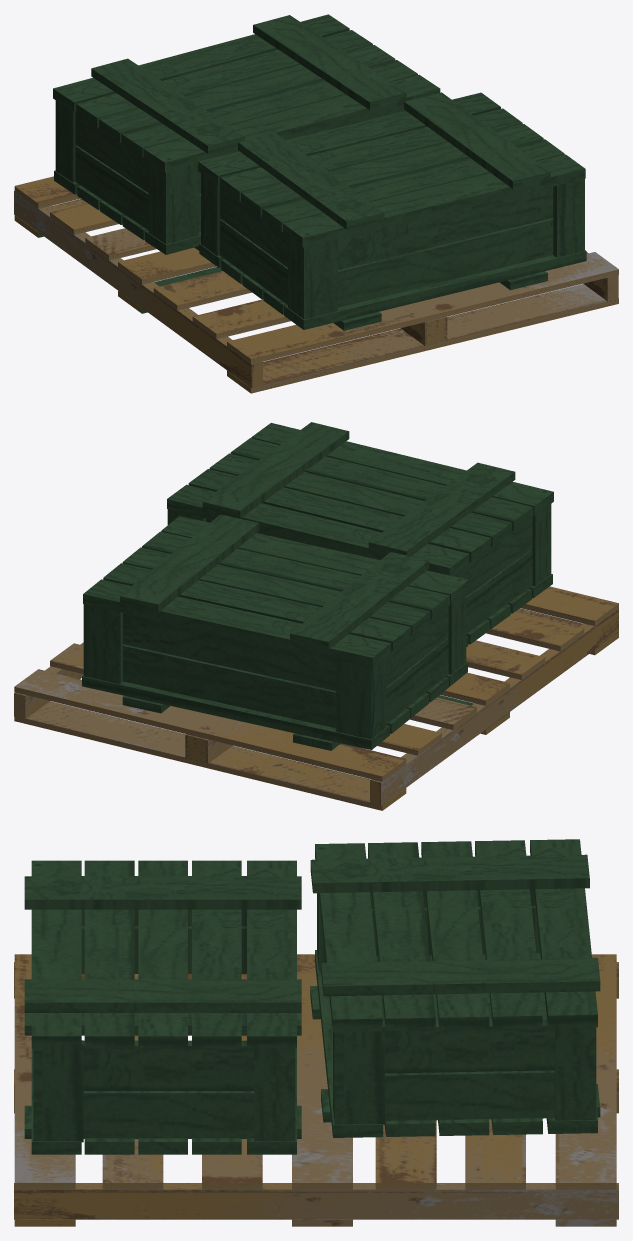
The model's file is mortar_ammunition_crates.glb.
3 renders of one model, top to bottom at view 1: azimuth 30°, elevation 25°; view 2: azimuth 150°, elevation 25°; view 3: azimuth 270°, elevation 25°, orthographic. The views are drawn at different scales.
Visible parts, largest first — view 1: 00_chassis_mortar_ammunition_crates.mesh; view 2: 00_chassis_mortar_ammunition_crates.mesh; view 3: 00_chassis_mortar_ammunition_crates.mesh.
Boxes of the visible parts, x1,y1,x2,y2 form: 00_chassis_mortar_ammunition_crates.mesh: (14, 14, 618, 393); 00_chassis_mortar_ammunition_crates.mesh: (14, 422, 618, 810); 00_chassis_mortar_ammunition_crates.mesh: (14, 839, 618, 1226).
Size of the model in its own units: 2.22 by 0.8317 by 2.48.
Materials: 1 (1 with a texture image).
